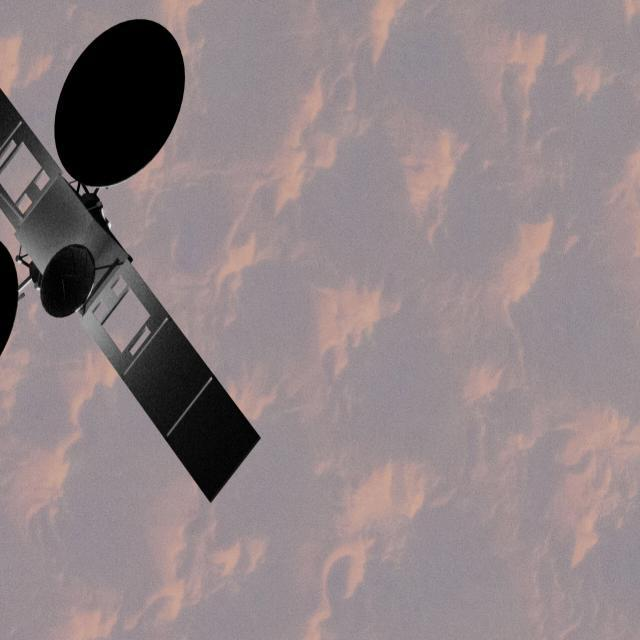medium_debris: (0, 10, 265, 512)
